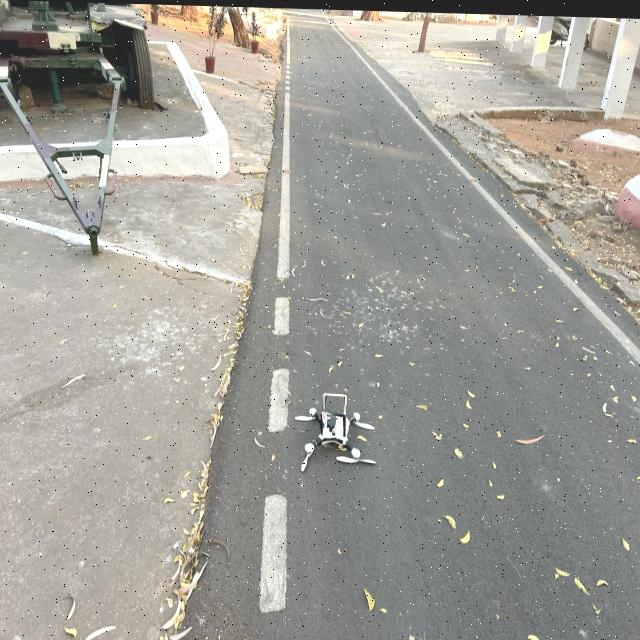drone: (273, 332, 397, 497)
